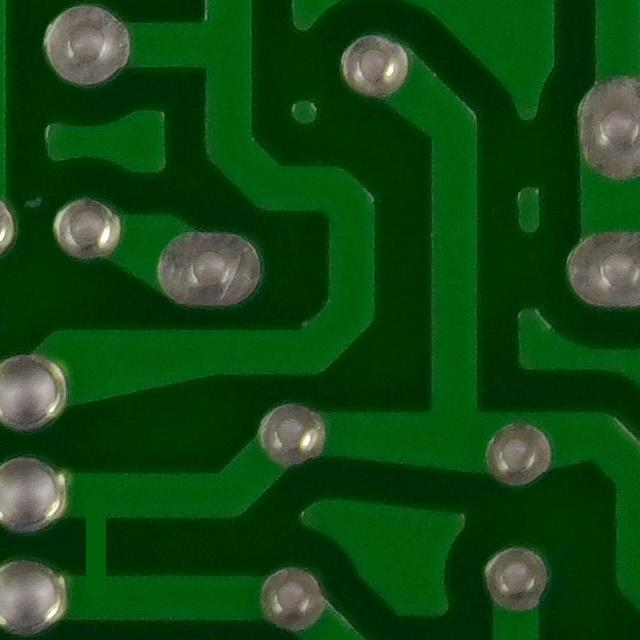short: (28, 468, 150, 628)
